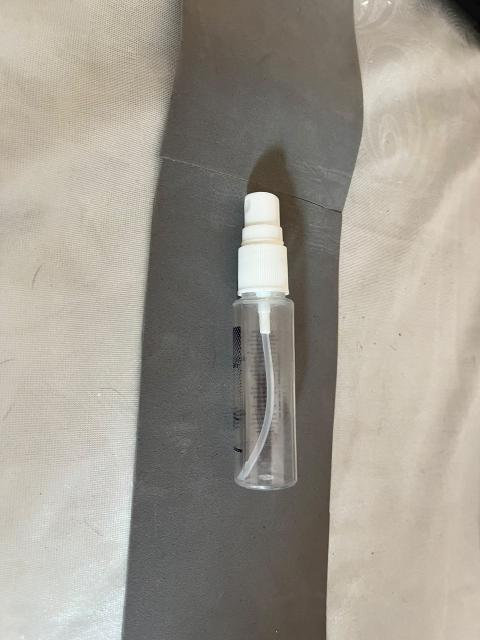PET: (192, 161, 345, 521)
